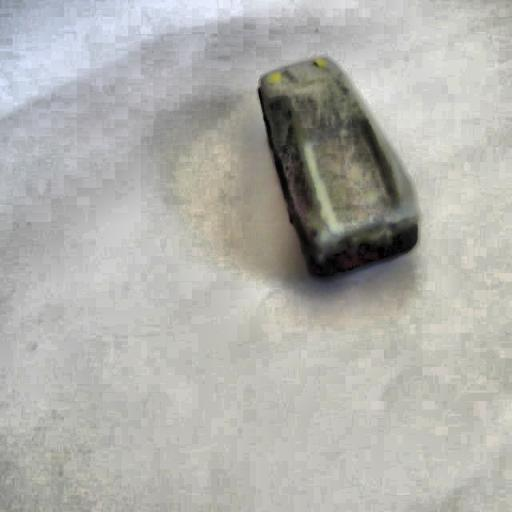normal_car: (253, 55, 421, 283)
